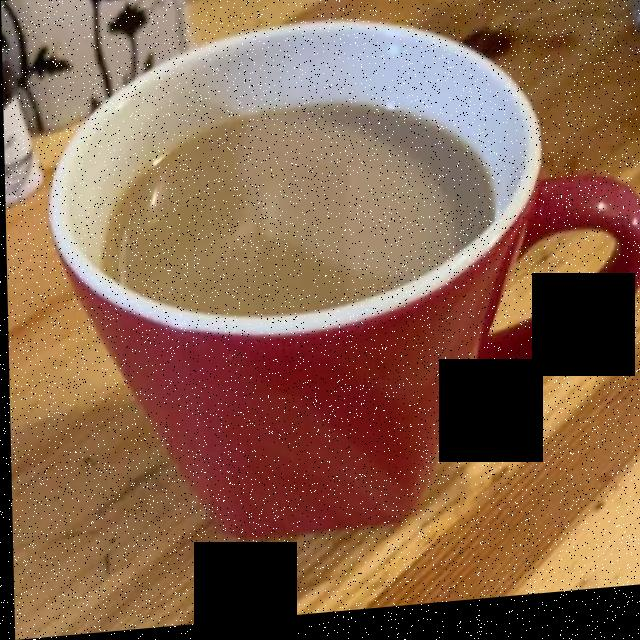white-coffee-with-caffeine: (100, 99, 484, 317)
